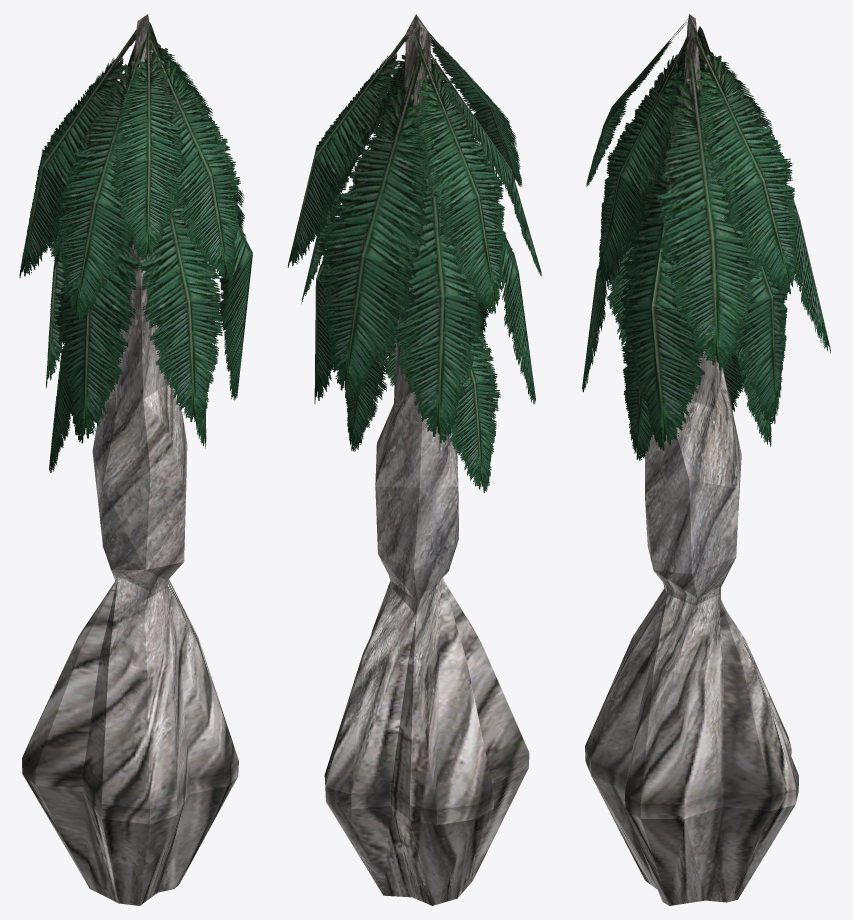
The model's file is decd_boffa_l0.fbx.
The picture shows the model from 3 angles, left to right: view 1: azimuth 30°, elevation 25°; view 2: azimuth 150°, elevation 25°; view 3: azimuth 270°, elevation 25°; orthographic projection.
Parts seen in each view (by area): view 1: mesh_node; view 2: mesh_node; view 3: mesh_node.
Boxes of the visible parts, box(x1,y1,x2,y2) form: mesh_node: box(19, 14, 252, 905); mesh_node: box(287, 14, 541, 905); mesh_node: box(582, 14, 830, 905).
Bounding box in the file's own units: 3.88 × 15.07 × 4.03.
